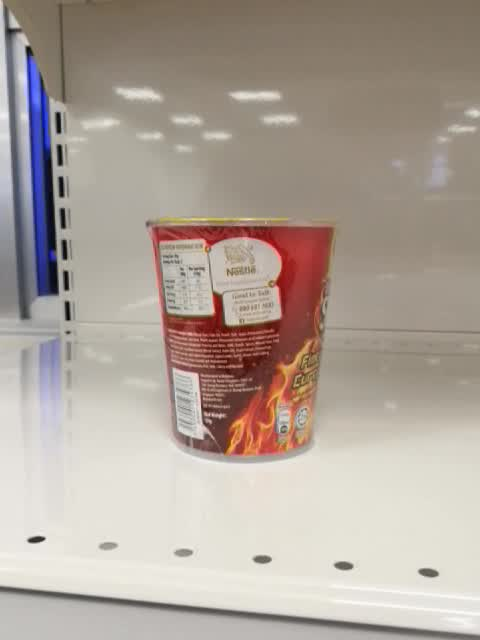maggi: (146, 216, 340, 465)
